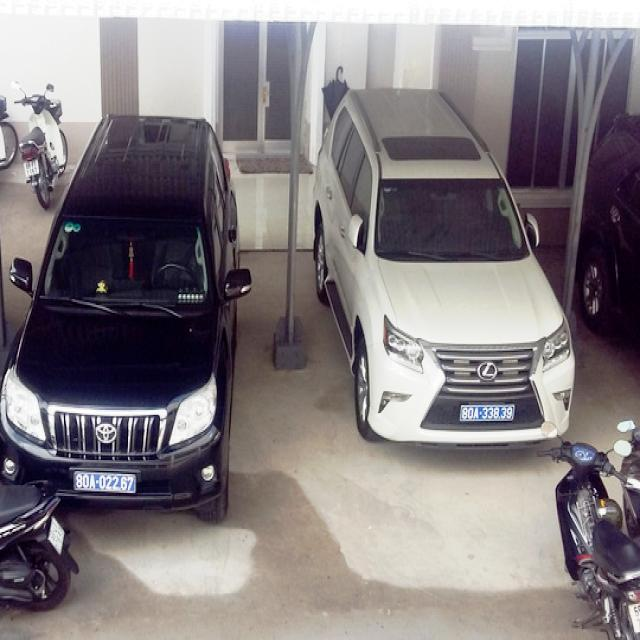license_plate: (75, 473, 136, 493), (461, 406, 515, 422), (50, 519, 65, 554)
